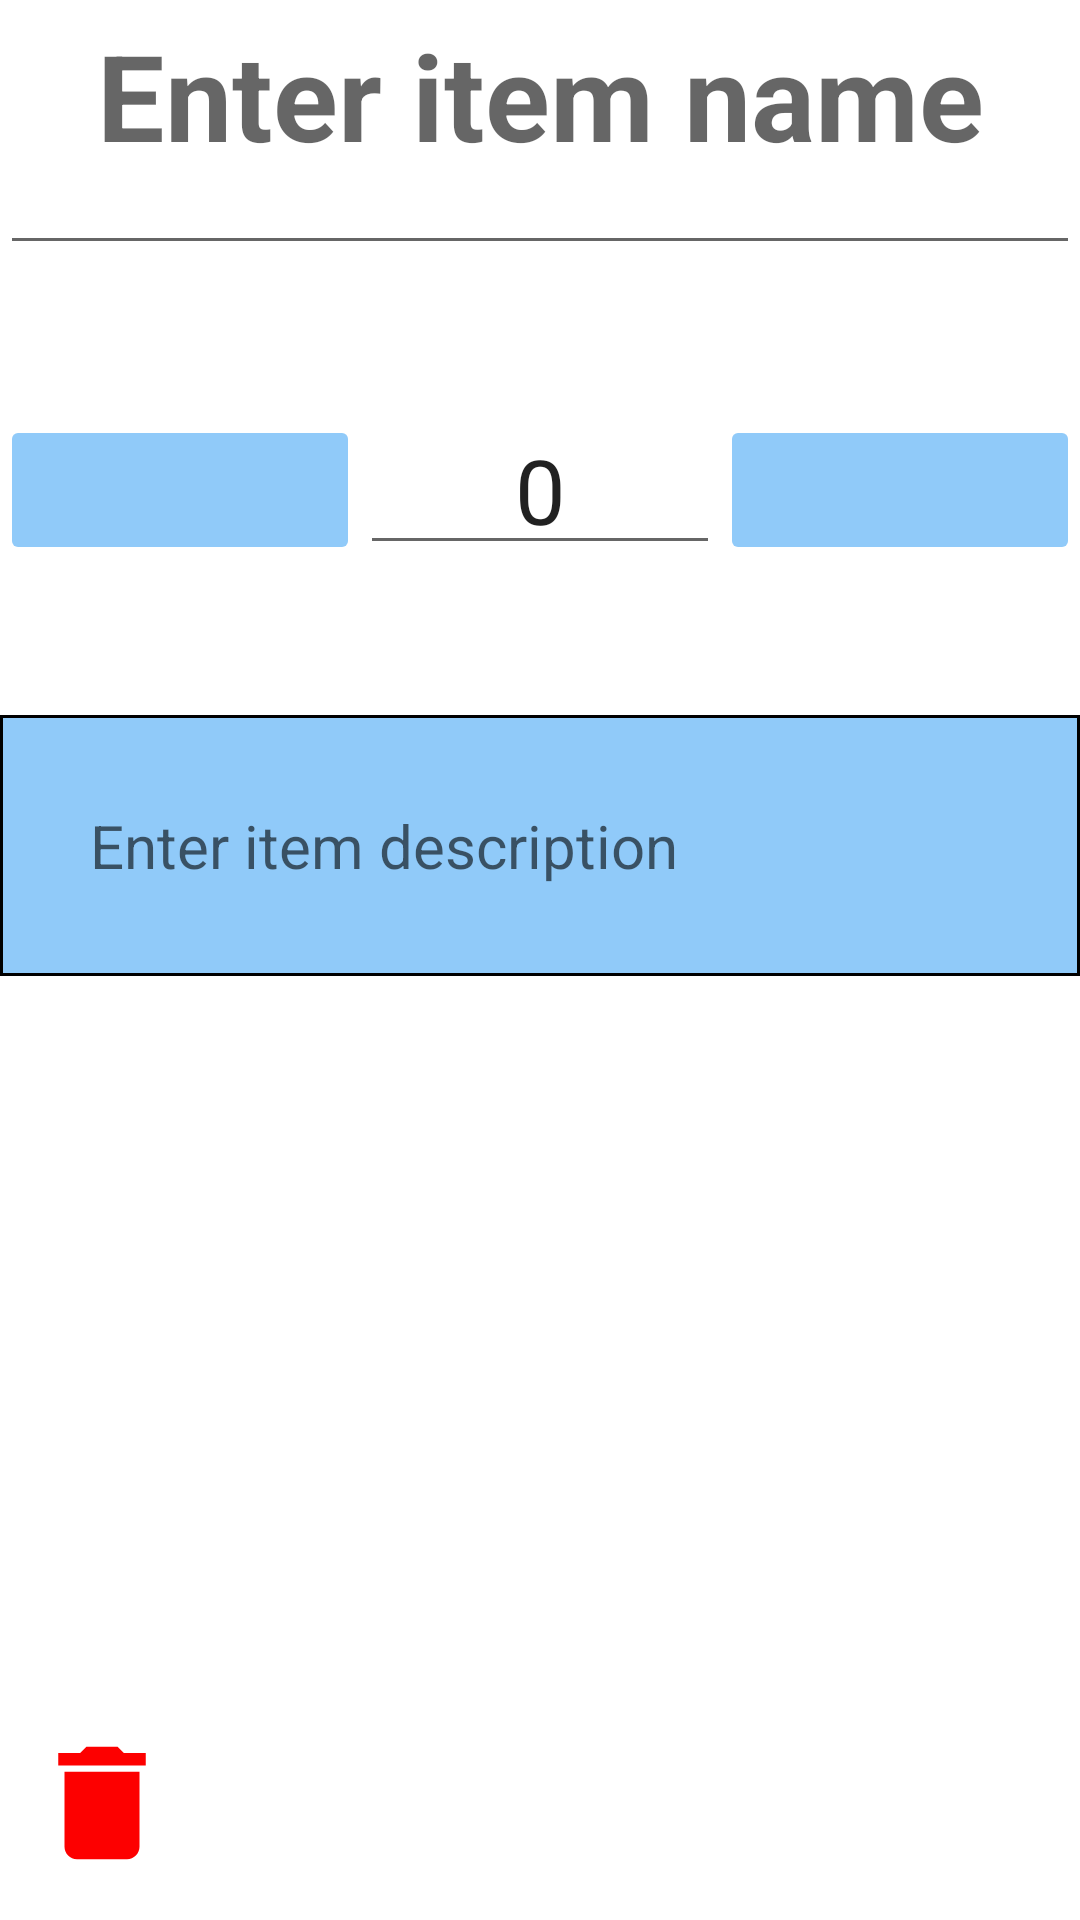

Icon bounding boxes for this 1080w x 1920h phone screenshot, format detection(x1, y1, x2, y2):
Remove item from inventory: detection(58, 1746, 146, 1860)
